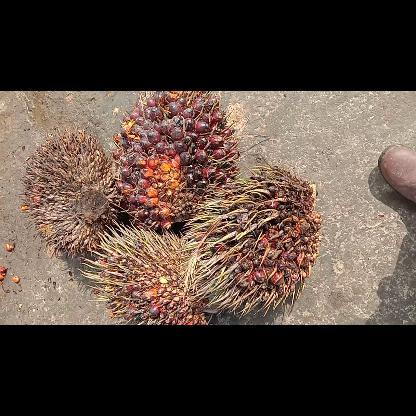Kurang masak: (183, 163, 321, 315)
TBS abnormal: (88, 222, 212, 324), (23, 125, 117, 257)
Terlalu masak: (111, 91, 239, 230)
